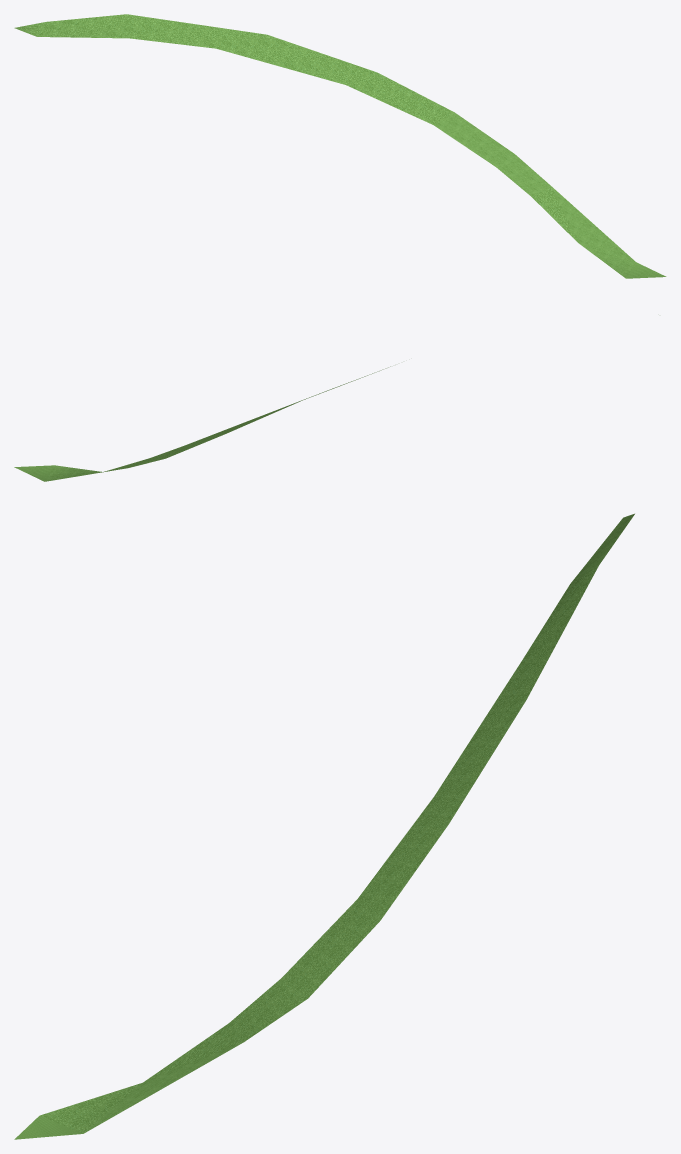
File: kd_stage_1366d7_3_4.glb
The picture shows the model from 3 angles, top to bottom: view 1: azimuth 30°, elevation 25°; view 2: azimuth 210°, elevation 25°; view 3: azimuth 270°, elevation 25°; orthographic projection. The views are drawn at different scales.
Visible parts, largest first — view 1: kd_stage_1366d7_3_4; view 2: kd_stage_1366d7_3_4; view 3: kd_stage_1366d7_3_4.
Boxes of the visible parts, left/top/right/bottom form: kd_stage_1366d7_3_4: left=14, top=14, right=666, bottom=278; kd_stage_1366d7_3_4: left=14, top=366, right=390, bottom=481; kd_stage_1366d7_3_4: left=14, top=513, right=634, bottom=1139.
Size of the model in its own units: 120 by 54.03 by 101.
Materials: 1 (1 with a texture image).
